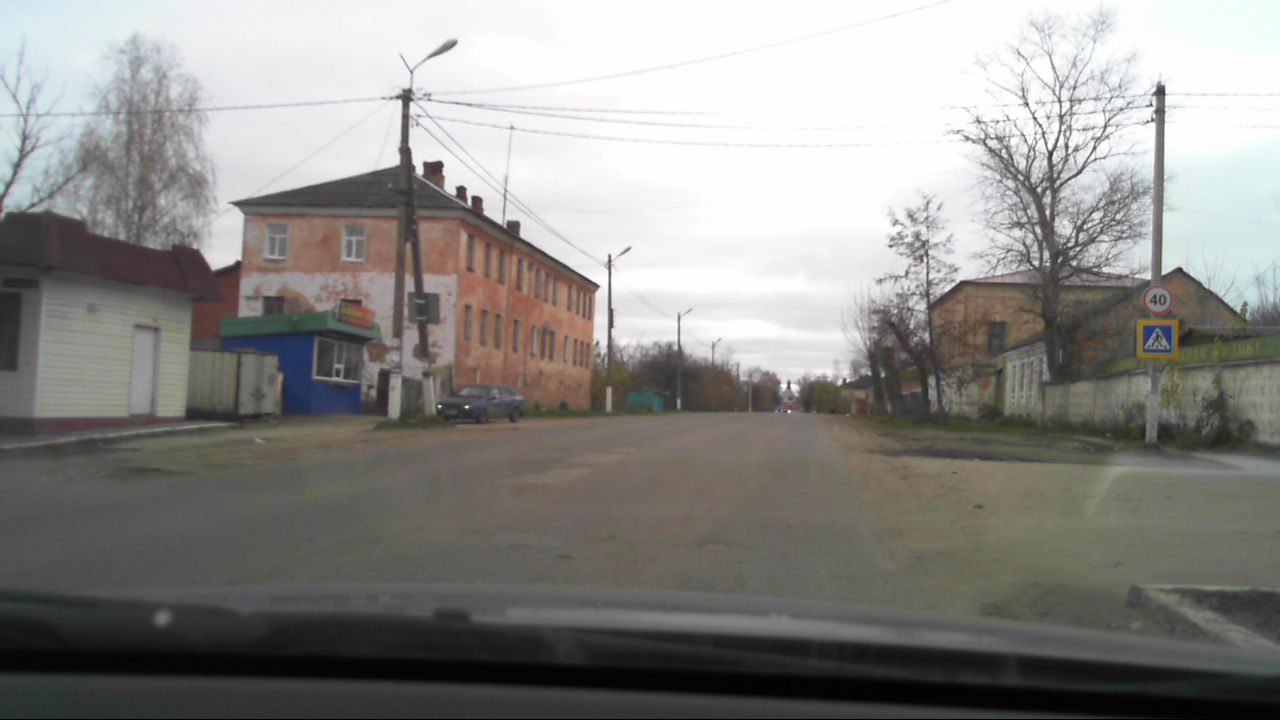speed_warning_40: (1141, 285, 1170, 313)
